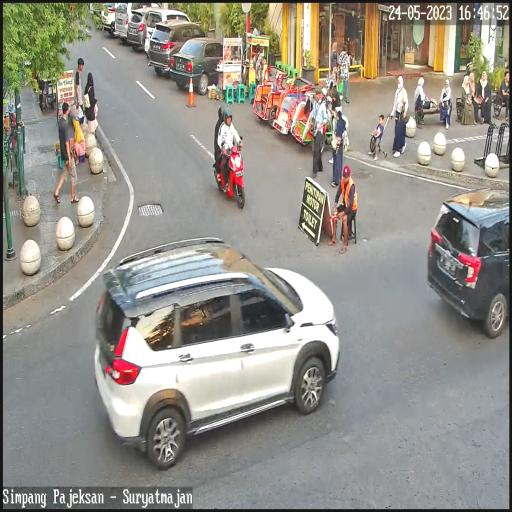mobil: (96, 239, 341, 458), (150, 22, 208, 79), (172, 38, 226, 92), (147, 9, 192, 67)
motor: (214, 138, 246, 214)
